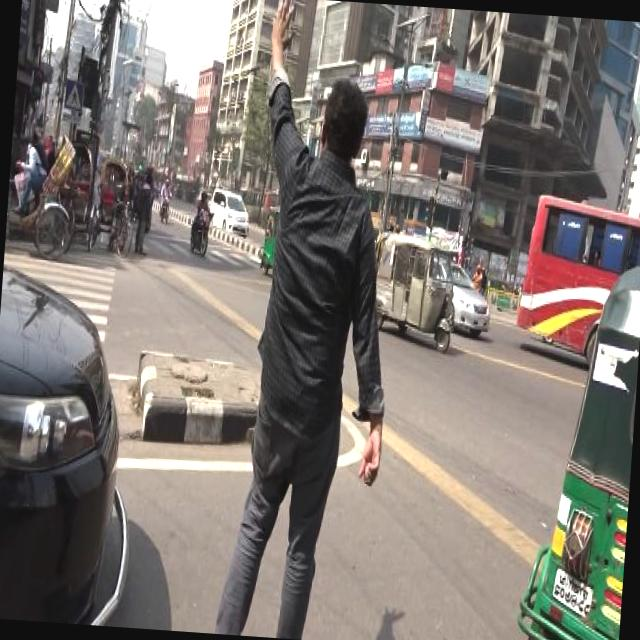bus: (513, 190, 640, 365), (238, 186, 278, 225)
car: (444, 260, 496, 337)
motorcycle: (511, 250, 640, 640), (369, 228, 462, 352), (6, 130, 78, 254), (93, 155, 139, 260), (60, 138, 98, 258), (187, 185, 216, 258), (258, 200, 281, 274), (158, 175, 174, 222), (470, 261, 490, 294)
truck: (0, 261, 149, 620), (208, 184, 253, 235)
